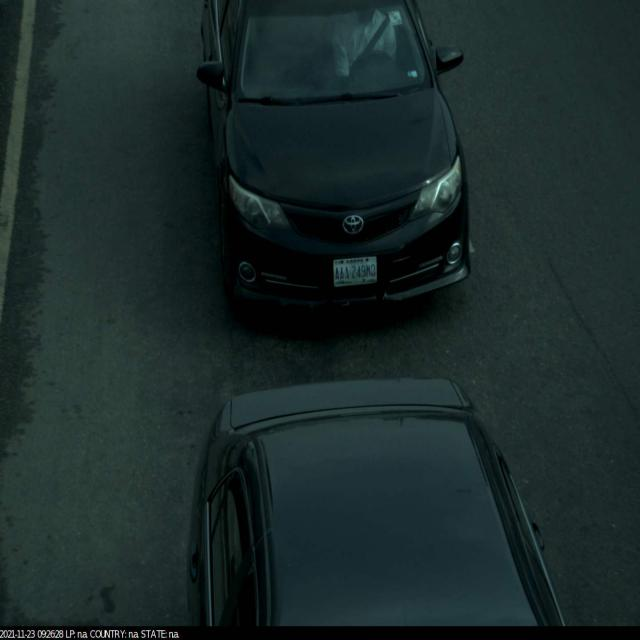windshield: (226, 1, 443, 118)
